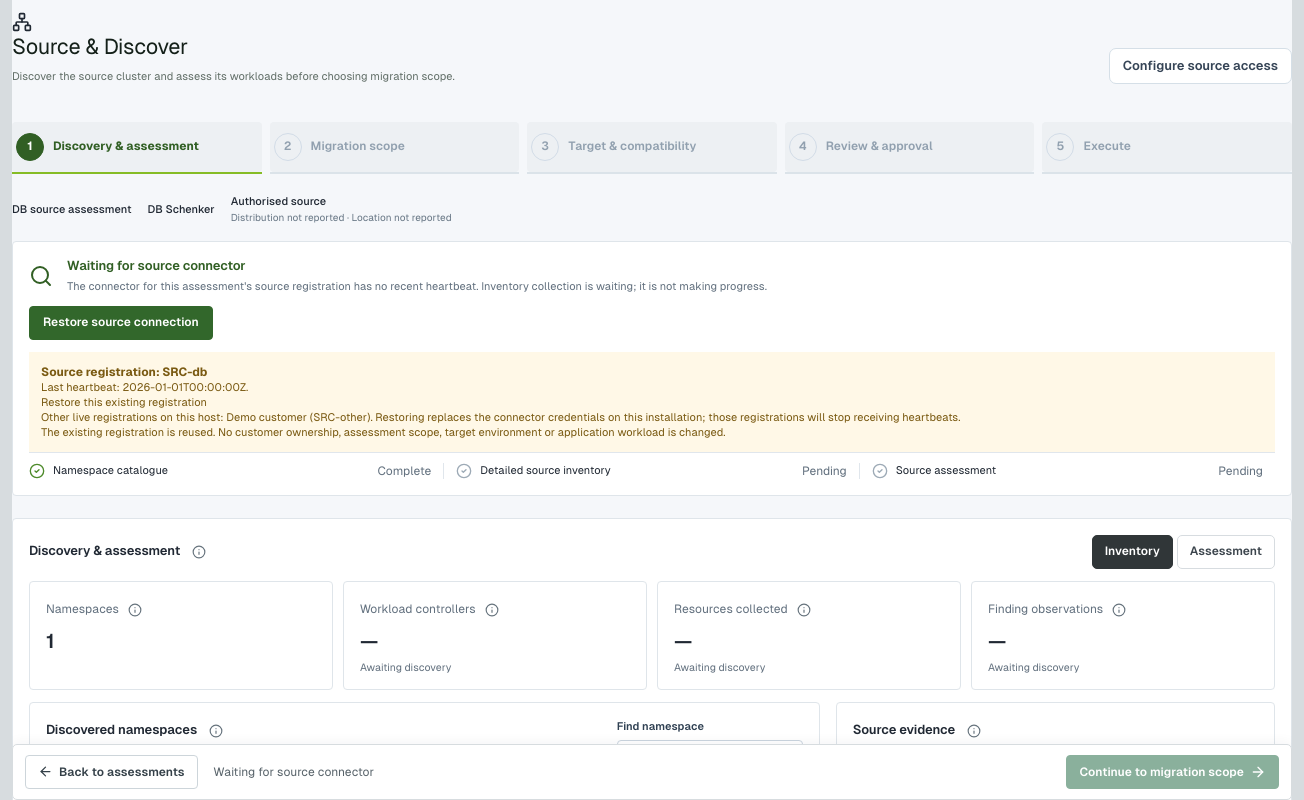
offers guarded recovery for a stale registered connector instead of claiming discovery progress
The image size is (1304, 800).
expect the heading "Waiting for source connector" is shown: met, box [67,258,246,273]
expect the text "Demo customer (SRC-other)" is shown: met, box [226,411,370,423]
Click the button "Restore source connection": (121, 323) [29,306,213,340]
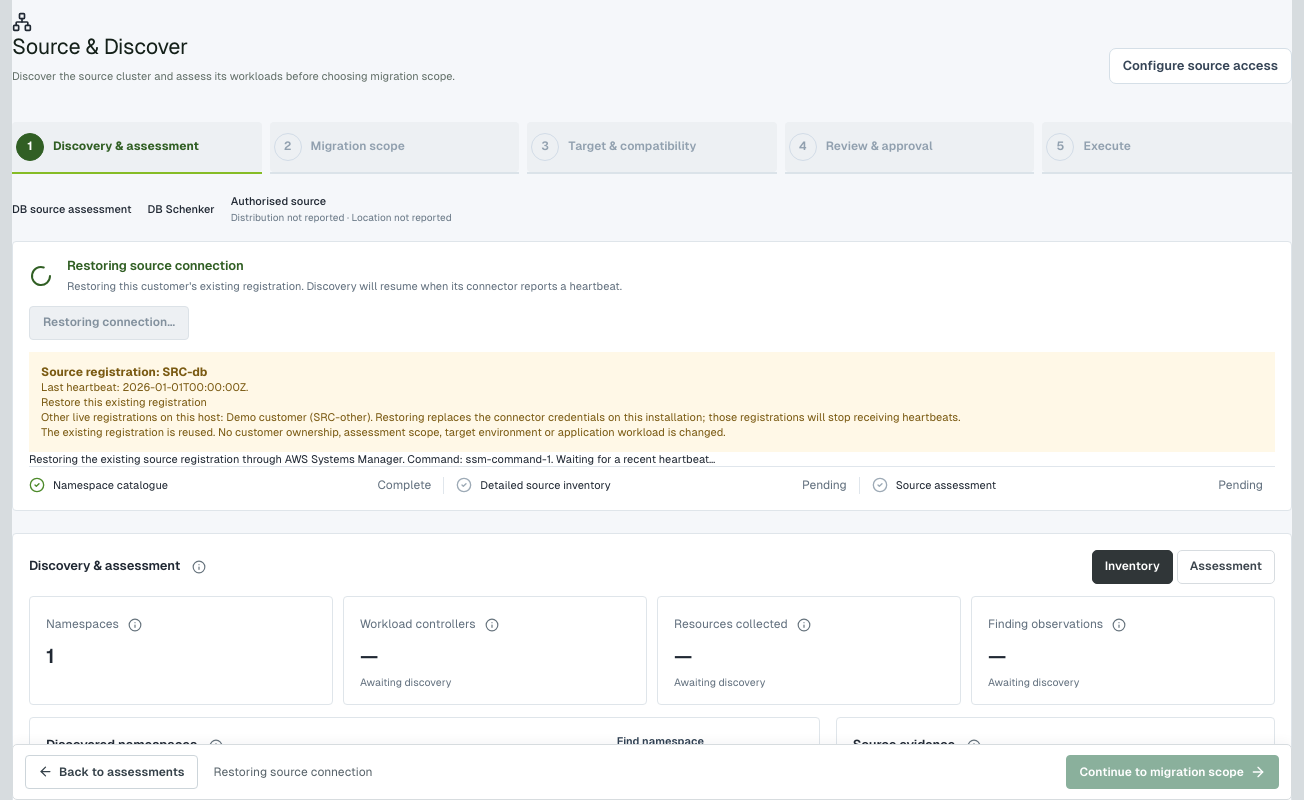
expect the button "Restoring connection…" is disabled: met, box [29,306,189,340]
